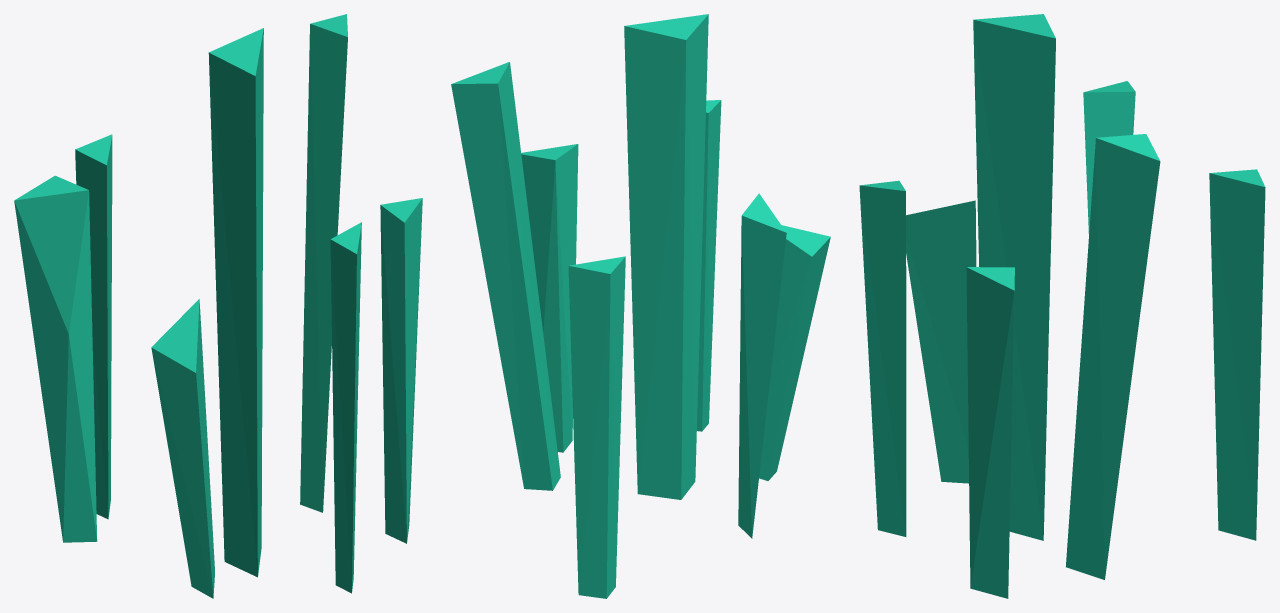
Rendered from algea3.obj.
The picture shows the model from 3 angles, left to right: view 1: azimuth 30°, elevation 25°; view 2: azimuth 150°, elevation 25°; view 3: azimuth 270°, elevation 25°; orthographic projection. The views are drawn at different scales.
Size of the model in its own units: 2.99 by 4.34 by 3.03.
